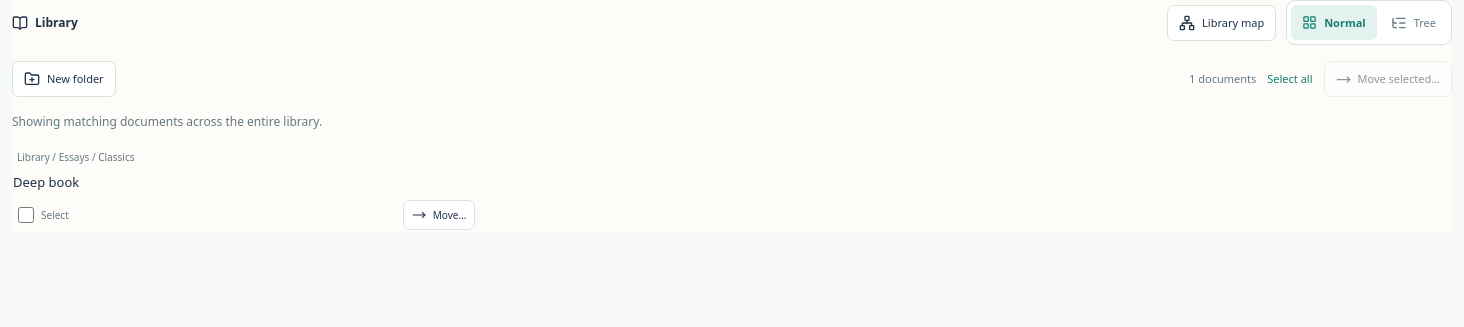
Test: library folder navigation and views › shows all matching paths in normal view and opens only matching tree ancestors
Expected: the text "Deep book" is shown, [13,173,79,191]
Expected: the text "Library / Essays / Classics" is shown, [17,150,134,164]
Click the button "Tree" at (1413, 22), box [1380,5,1447,40]
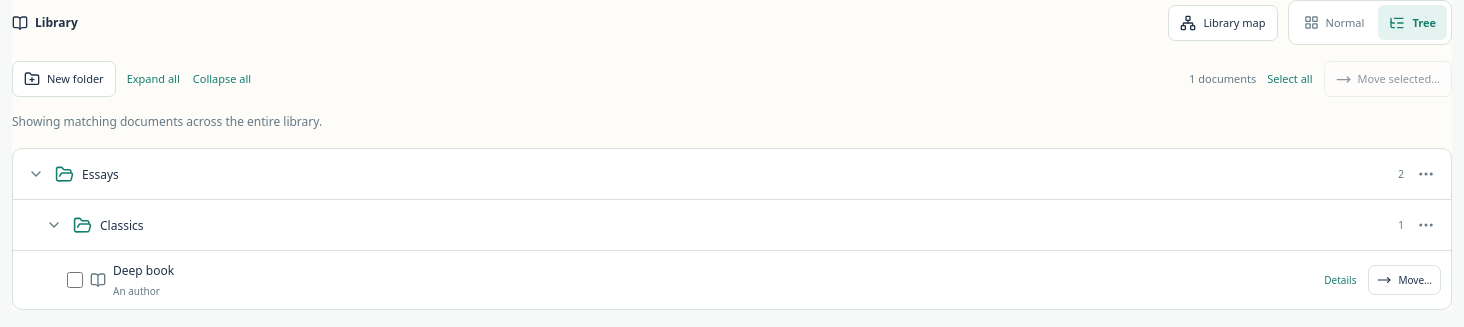
Expected: the button named "Collapse Essays" is shown
Expected: the button named "Collapse Classics" is shown, [41,210,66,240]
Expected: the button with aria-label "Details for Deep book" is shown, [1319,264,1361,296]
Click the button named "Collapse Essays" at (36, 174), box [23,159,48,189]
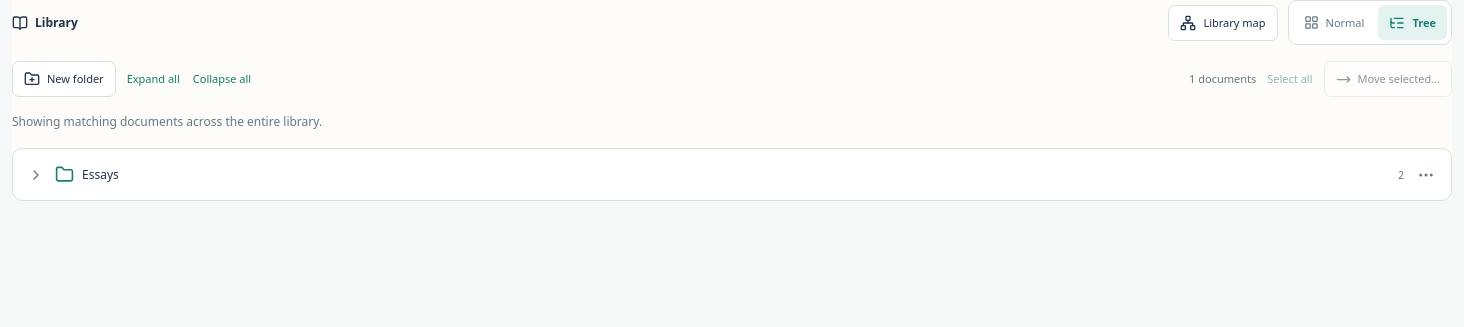
Click the button named "Expand Essays" at (36, 175), box [23,160,48,190]
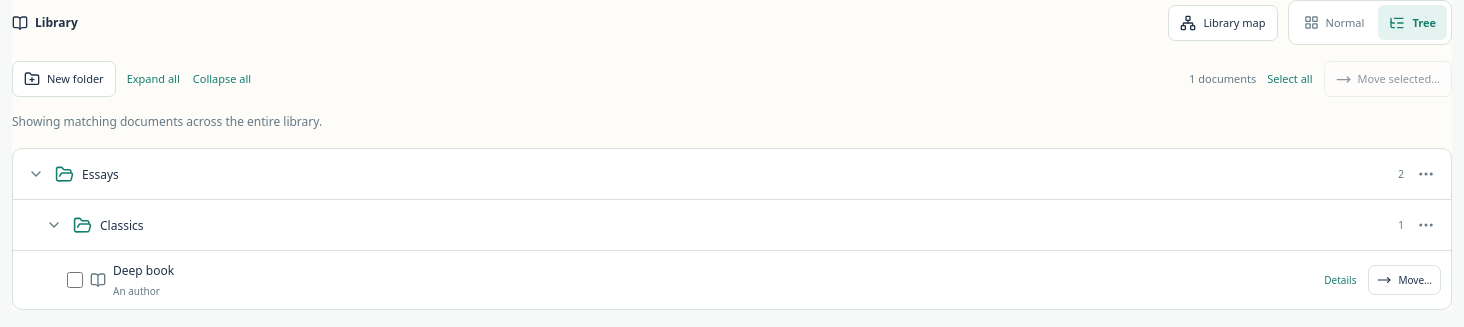
Expected: the button with aria-label "Details for Deep book" is shown, [1319,264,1361,296]
